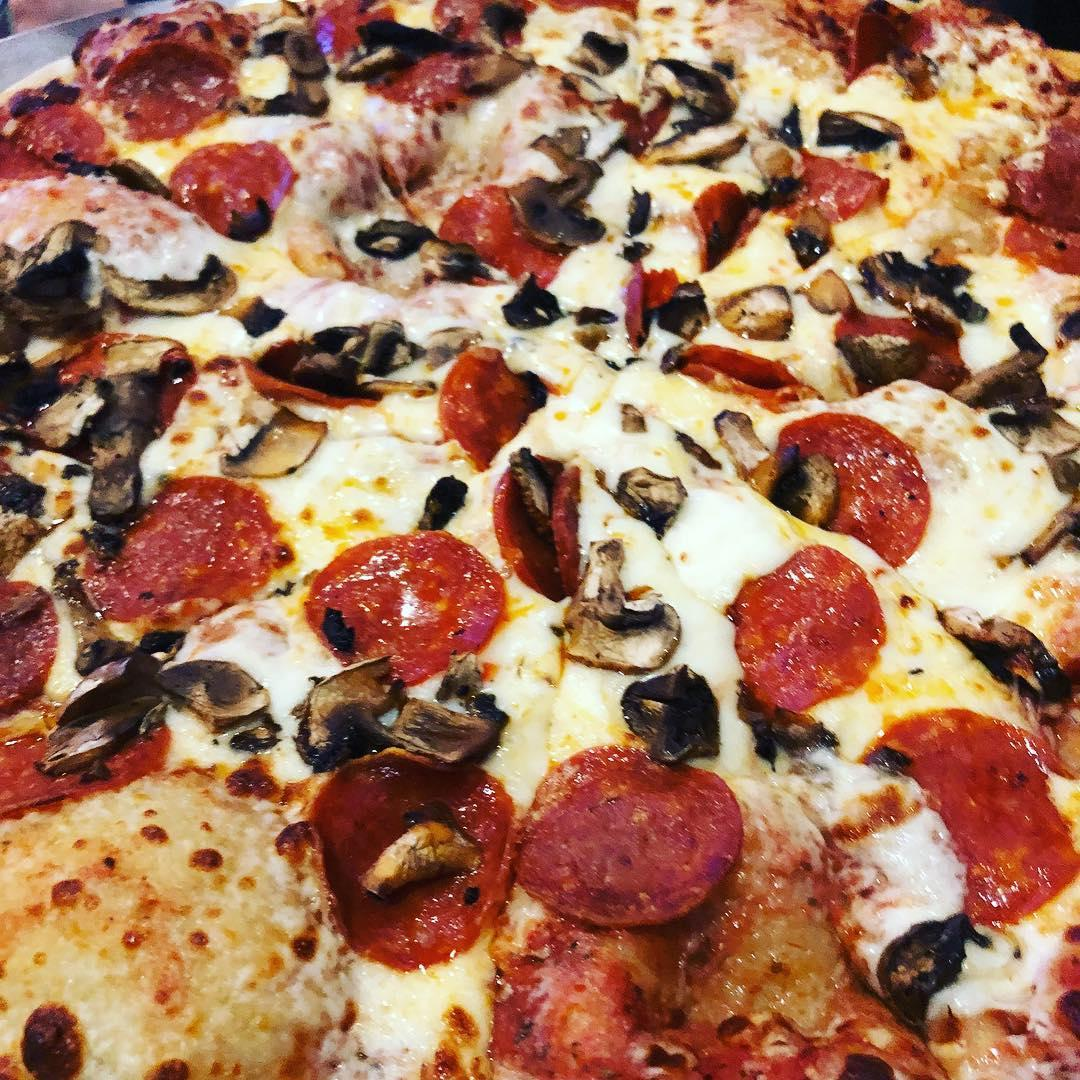Mushroom: (0, 336, 188, 459), (33, 659, 233, 772), (950, 324, 1080, 458), (303, 670, 505, 752), (936, 600, 1080, 704), (0, 219, 113, 336), (558, 558, 687, 653), (267, 324, 421, 403), (864, 244, 994, 321), (213, 405, 318, 486), (115, 252, 245, 317), (635, 669, 724, 749), (644, 55, 746, 122), (881, 926, 952, 1019), (605, 457, 686, 525), (833, 329, 917, 385), (769, 445, 830, 522), (705, 401, 762, 474), (87, 461, 146, 529), (777, 217, 836, 277), (727, 290, 799, 338), (507, 287, 572, 338), (355, 223, 421, 266), (665, 283, 701, 336), (621, 195, 652, 245)
Pepperoni: (867, 705, 1080, 929), (323, 753, 514, 963), (527, 750, 731, 926), (85, 485, 277, 621), (317, 534, 501, 672), (774, 413, 930, 568), (734, 543, 882, 695), (0, 706, 173, 825), (84, 26, 246, 135), (1005, 117, 1080, 276), (829, 305, 968, 390), (447, 197, 564, 286), (0, 93, 118, 181), (447, 346, 531, 466), (494, 465, 575, 587), (673, 169, 772, 264), (665, 340, 807, 406), (168, 149, 287, 223), (833, 0, 929, 83), (0, 587, 54, 714), (790, 152, 879, 211), (362, 53, 459, 107)
Pizza: (0, 0, 1080, 1080)
